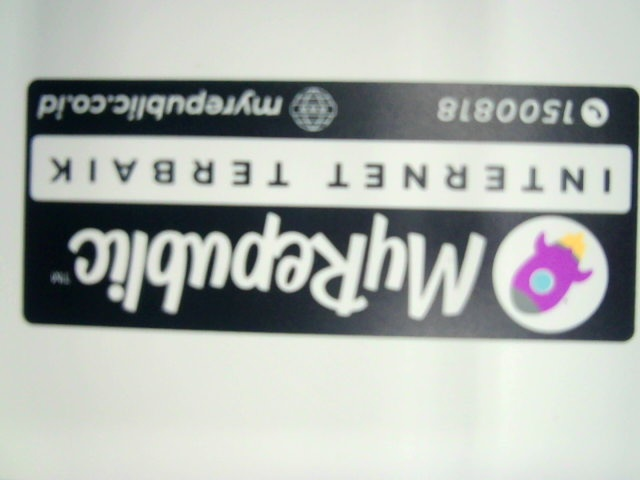BD_MyRepublic: (19, 68, 638, 348)
